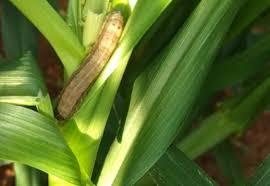fallarmy_worm: (52, 8, 126, 122)
